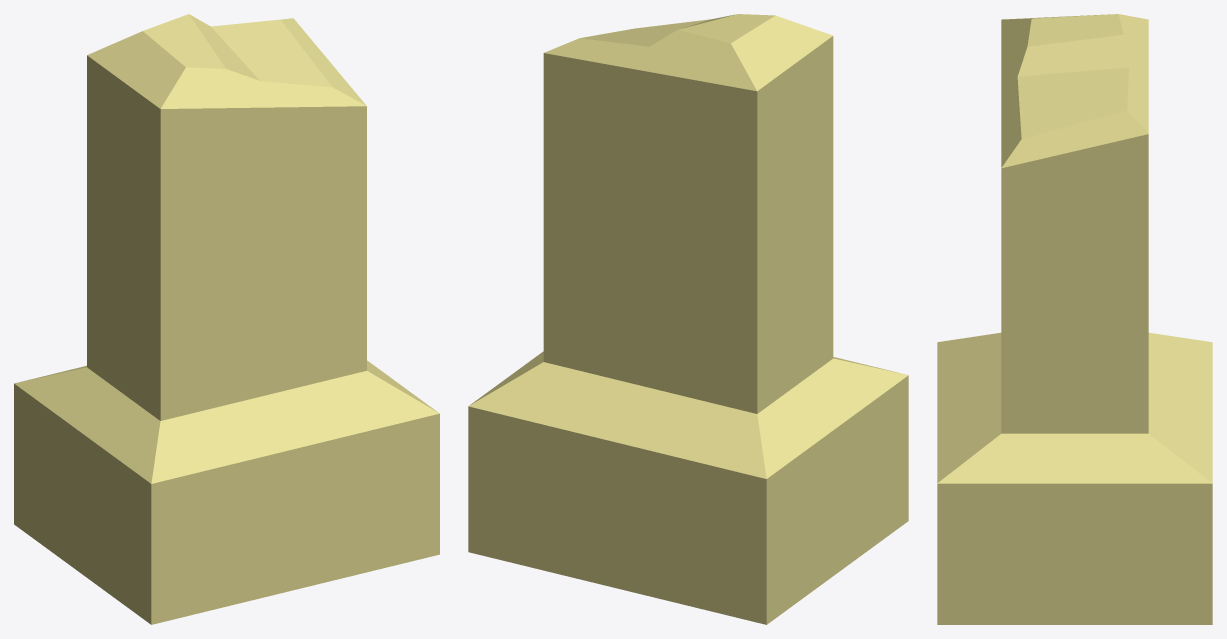
Rendered from pillar3.obj.
3 views of the same model, side by side, from view 1: azimuth 30°, elevation 25°; view 2: azimuth 150°, elevation 25°; view 3: azimuth 270°, elevation 25° (orthographic). The views are drawn at different scales.
Parts seen in each view (by area): view 1: pilla3; view 2: pilla3; view 3: pilla3.
Part boxes in pixels (x1,y1,x2,y2): pilla3: (14,14,439,624); pilla3: (468,14,908,624); pilla3: (937,14,1212,624).
Bounding box in the file's own units: 1.6 × 2.71 × 1.32.
